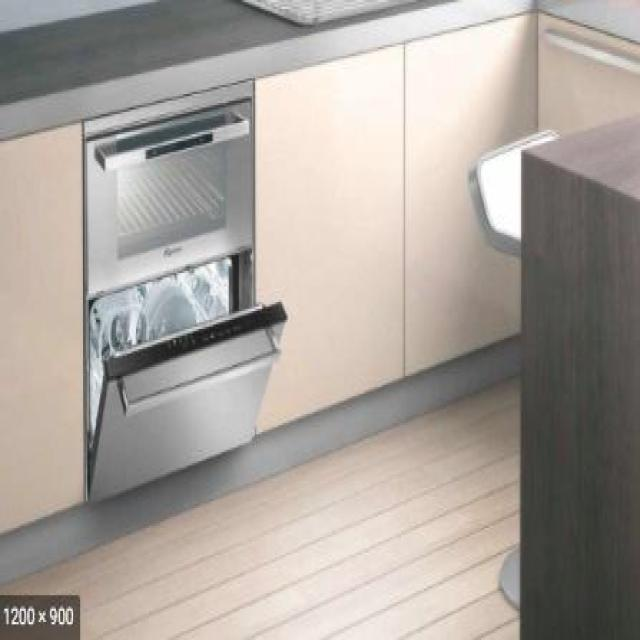dishwasher: (80, 76, 285, 513)
